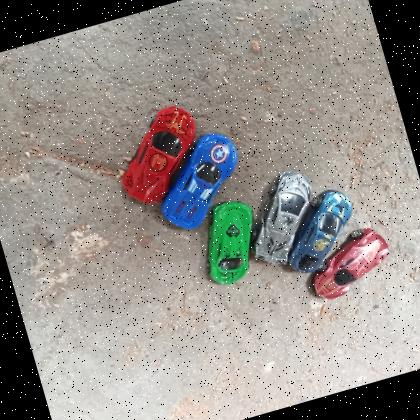Car: (142, 126, 255, 238), (104, 97, 214, 211), (234, 166, 333, 274), (271, 183, 368, 278), (301, 222, 400, 304), (188, 195, 270, 290)
